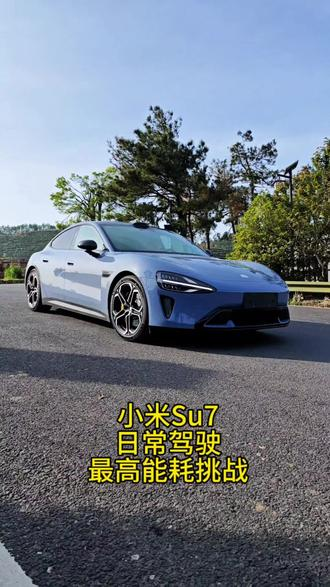su7: (24, 217, 293, 357)
